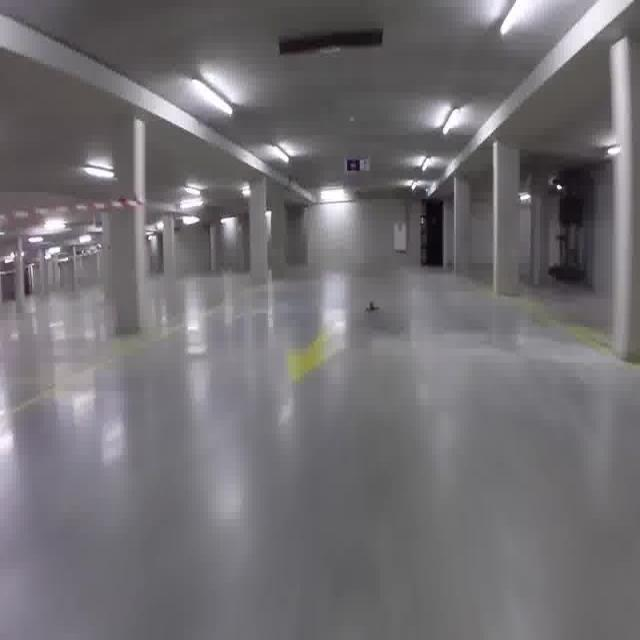drones: (362, 296, 382, 316)
